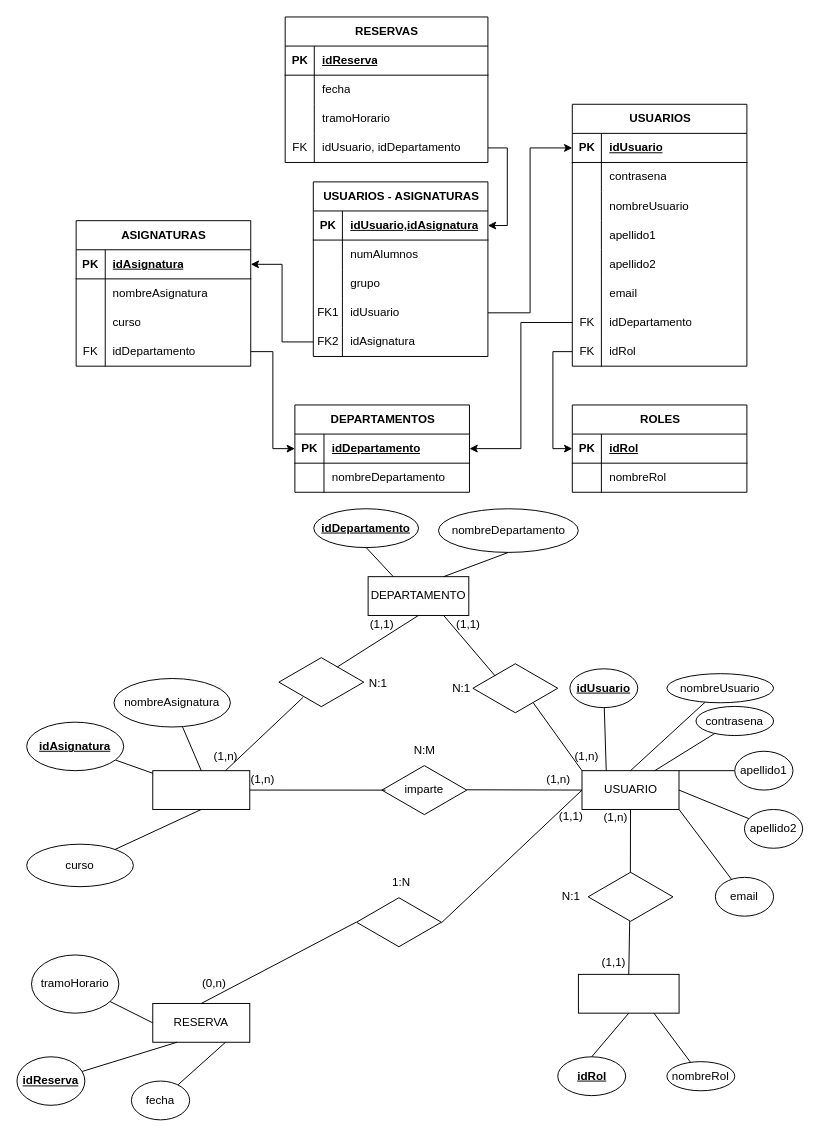
The diagram is 820 pixels wide and 1137 high, and some of its shapes have lost their labels. The shapes that lost their labels are listed below. From the top down, each one's centre as x and y in pixels, then its label:
(x=321, y=682): corresponde
(x=515, y=688): pertenece
(x=201, y=789): ASIGNATURA
(x=630, y=896): tiene
(x=398, y=922): hace
(x=628, y=993): ROL
